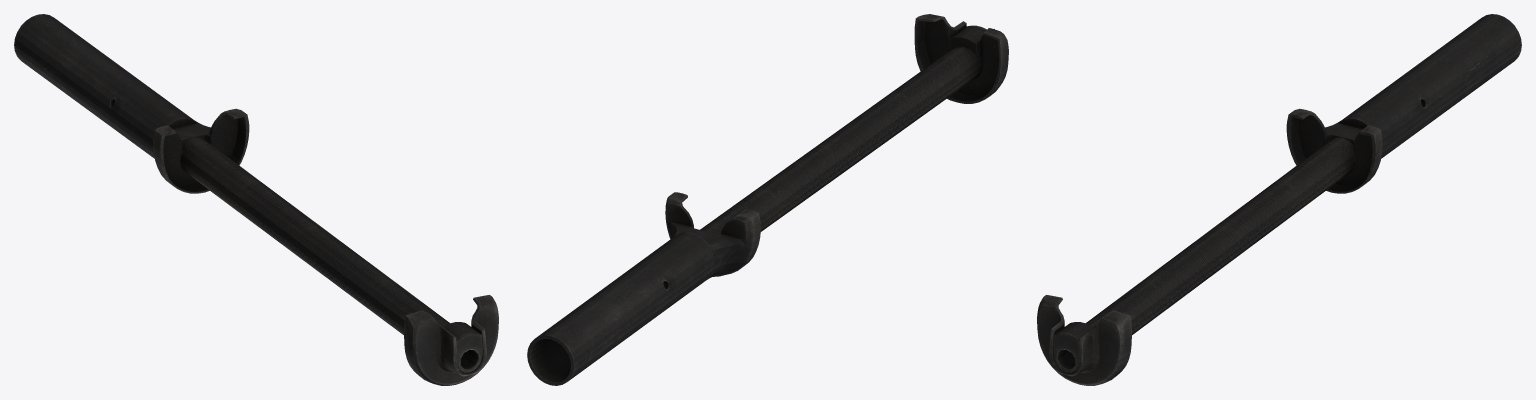
3 views of the same model, side by side, from view 1: azimuth 30°, elevation 25°; view 2: azimuth 150°, elevation 25°; view 3: azimuth 330°, elevation 25° (orthographic).
Visible parts, largest first — view 1: TW_634f02d7517ccc8a960fc744_PZ_Import; view 2: TW_634f02d7517ccc8a960fc744_PZ_Import; view 3: TW_634f02d7517ccc8a960fc744_PZ_Import.
Boxes of the visible parts, x1=… form: TW_634f02d7517ccc8a960fc744_PZ_Import: x1=14, y1=14, x2=498, y2=385; TW_634f02d7517ccc8a960fc744_PZ_Import: x1=527, y1=14, x2=1008, y2=385; TW_634f02d7517ccc8a960fc744_PZ_Import: x1=1037, y1=14, x2=1521, y2=385.
Bounding box in the file's own units: 0.0169 × 0.1417 × 0.0141.
1 material, 1 textured.
